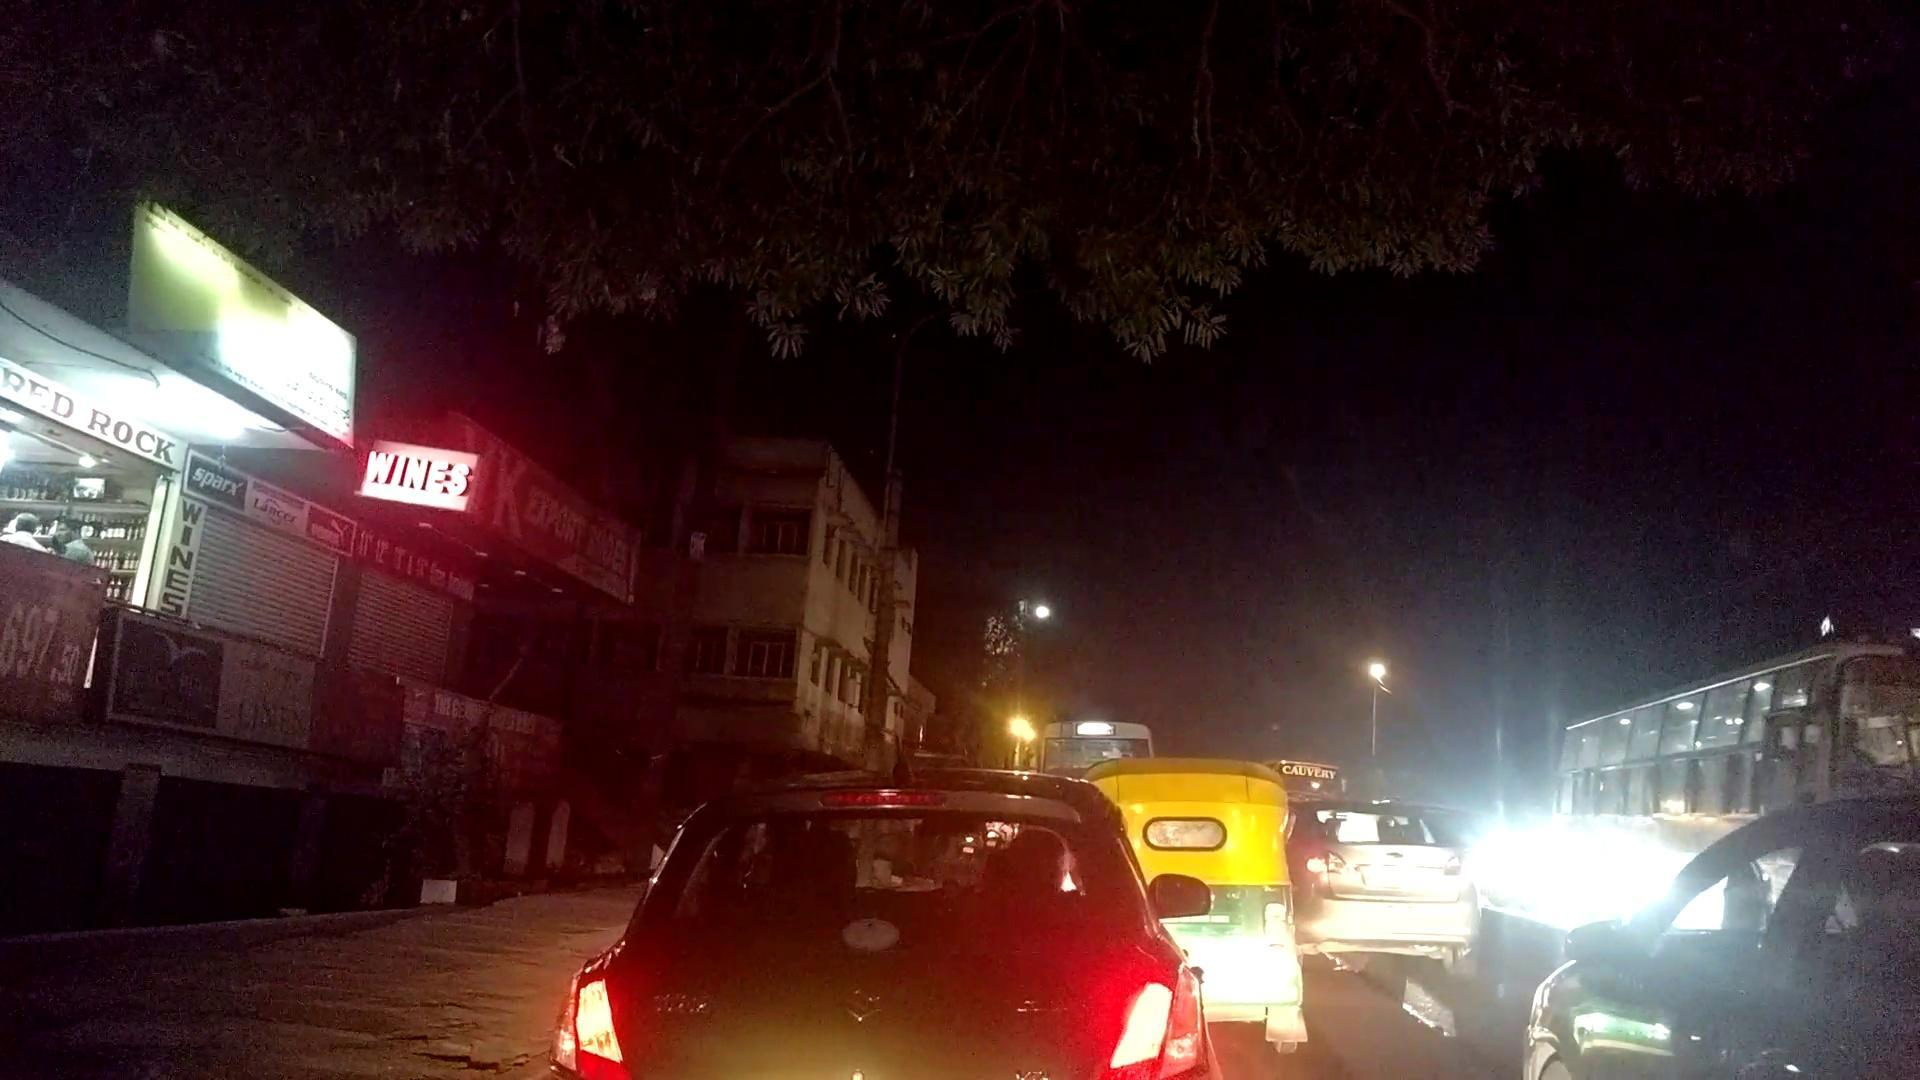on: (1261, 522, 1527, 947)
